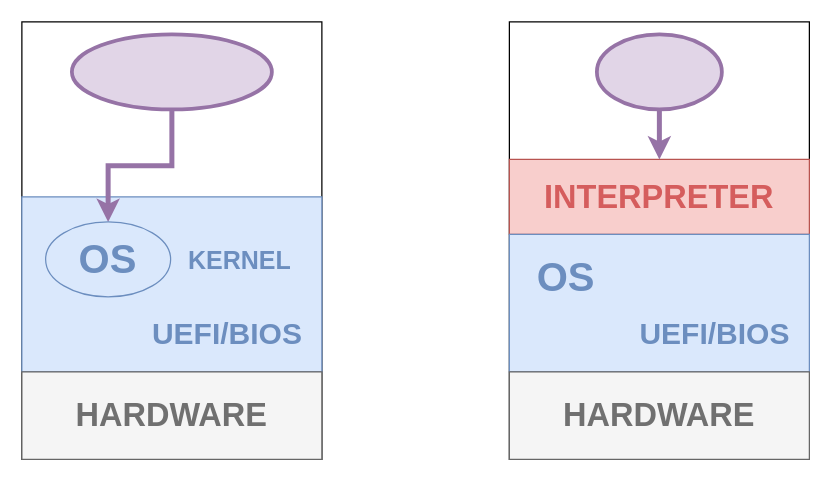
The diagram is 831 pixels wide and 481 high, and some of its shapes have lost their labels. The centre of each missing label's shape, as x and y in pixels:
APPLICATION: the point at 171,71
SCRIPT: the point at 658,71
